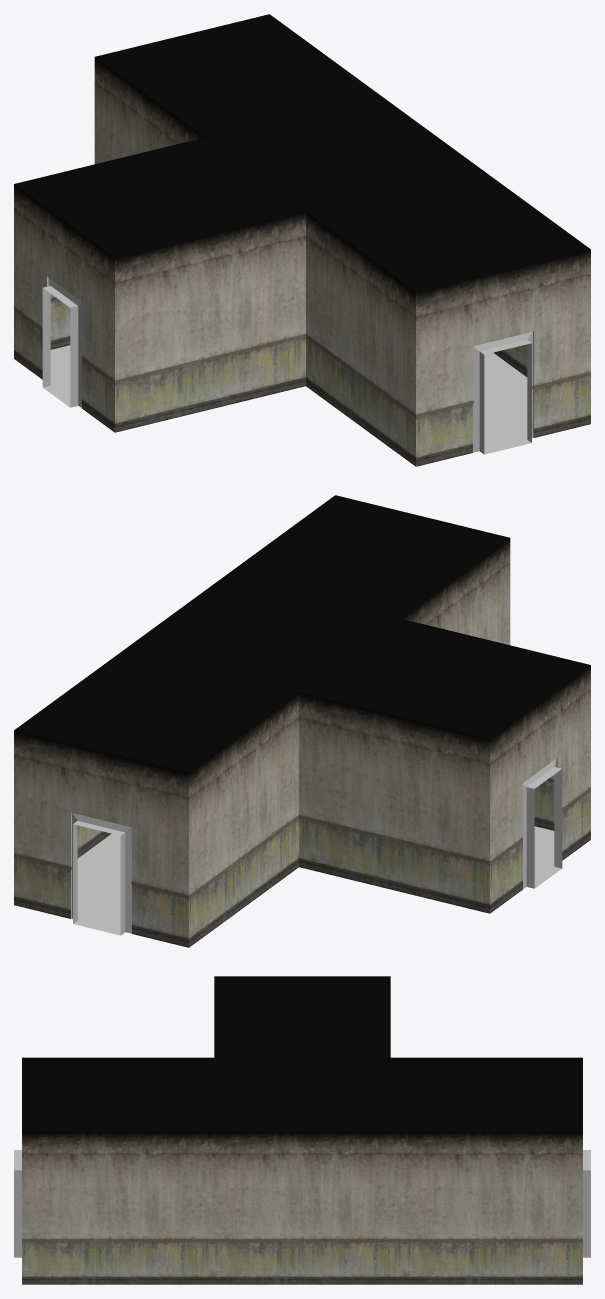
File: T-Intersection_2x3.FBX
3 views of the same model, one above another, from view 1: azimuth 30°, elevation 25°; view 2: azimuth 150°, elevation 25°; view 3: azimuth 270°, elevation 25° (orthographic). The views are drawn at different scales.
Parts seen in each view (by area): view 1: T-Intersection_2x3; view 2: T-Intersection_2x3; view 3: T-Intersection_2x3.
Part boxes in pixels (x1,y1,x2,y2): T-Intersection_2x3: [14, 14, 590, 466]; T-Intersection_2x3: [14, 495, 590, 947]; T-Intersection_2x3: [14, 976, 590, 1284].
Size of what is drawn, in the model's own units: 925 by 413 by 1417.
